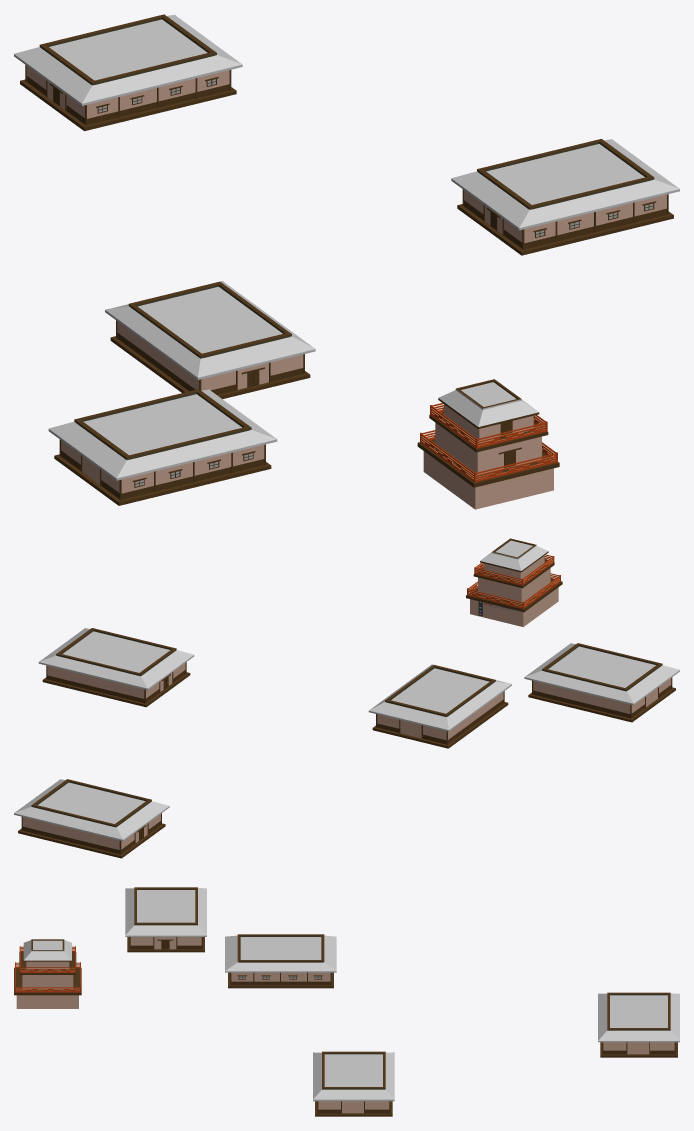
The model's file is Buildings_Set_01.fbx.
The picture shows the model from 3 angles, top to bottom: view 1: azimuth 30°, elevation 25°; view 2: azimuth 150°, elevation 25°; view 3: azimuth 270°, elevation 25°; orthographic projection. The views are drawn at different scales.
Visible parts, largest first — view 1: Cube.035; view 2: Cube.035; view 3: Cube.035.
Part boxes in pixels (x1,y1,x2,y2): Cube.035: [14, 14, 679, 509]; Cube.035: [14, 538, 679, 858]; Cube.035: [14, 887, 679, 1116].
Bounding box in the file's own units: 29.85 × 3.46 × 39.76.
